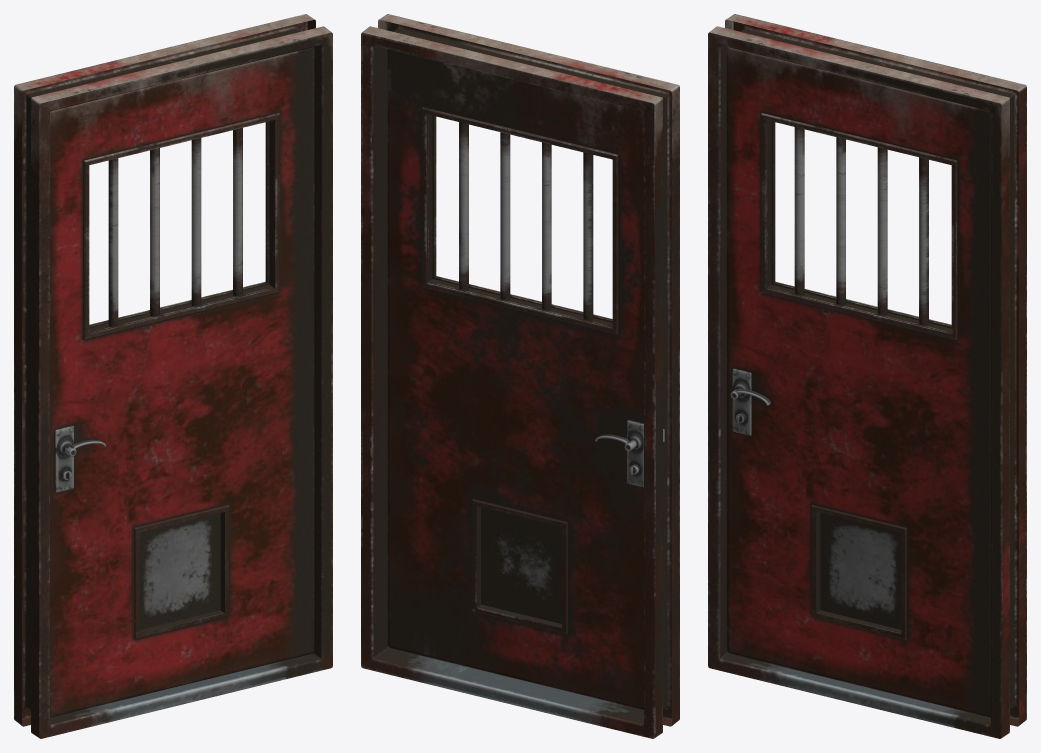
The model's file is door-prison.glb.
The picture shows the model from 3 angles, left to right: view 1: azimuth 30°, elevation 25°; view 2: azimuth 150°, elevation 25°; view 3: azimuth 330°, elevation 25°; orthographic projection.
Parts seen in each view (by area): view 1: leafMesh, frame; view 2: leafMesh, frame; view 3: leafMesh, frame.
Part boxes in pixels (bbox=[...]): leafMesh: bbox=[50, 47, 314, 717]; frame: bbox=[14, 14, 332, 738]; leafMesh: bbox=[387, 49, 664, 709]; frame: bbox=[361, 14, 679, 738]; leafMesh: bbox=[726, 47, 990, 717]; frame: bbox=[708, 14, 1026, 738].
Size of the model in its own units: 1.35 by 2.78 by 0.2333.
Materials: 1 (1 with a texture image).
